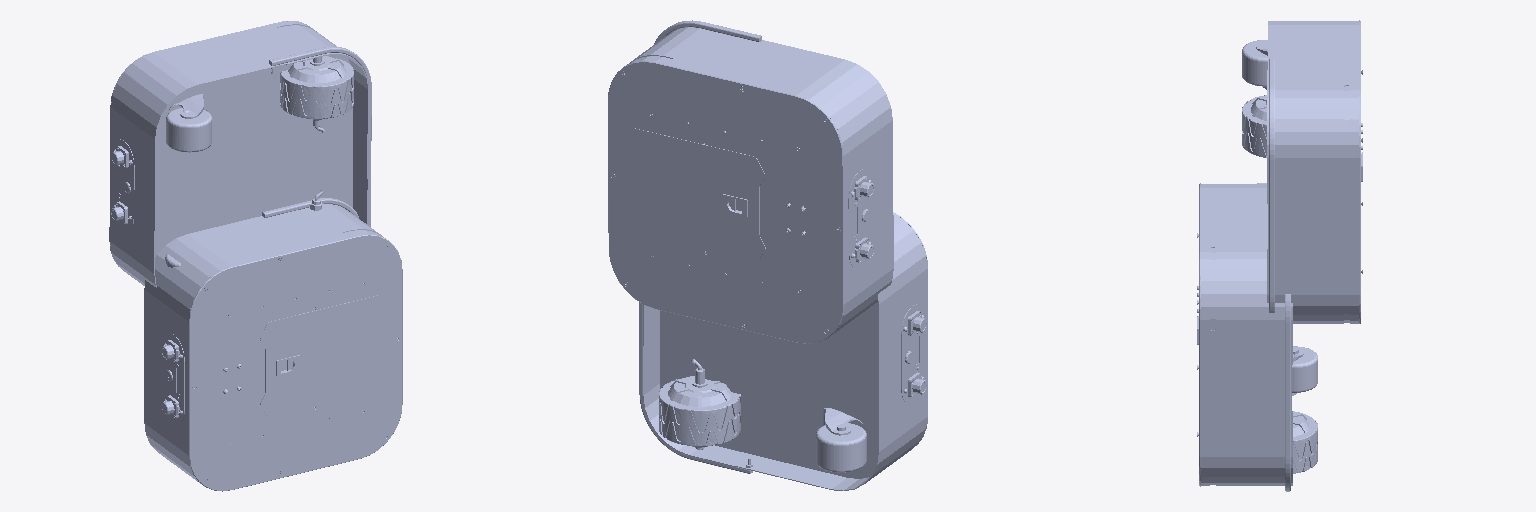
The robot description file, URDF, robot "ranger_mini":
<?xml version="1.0" encoding="utf-8"?>
<!-- This URDF was automatically created by SolidWorks to URDF Exporter! Originally created by [author] ([email redacted]) 
     Commit Version: 1.6.0-4-g7f85cfe  Build Version: 1.6.7995.38578
     For more information, please see http://wiki.ros.org/sw_urdf_exporter -->
<robot
  name="ranger_mini">
  <link
    name="base_link">
    <inertial>
      <origin
        xyz="-0.0242698272228022 -0.0030308024613212 0.0544267444673498"
        rpy="0 0 0" />
      <mass
        value="0.162715996120322" />
      <inertia
        ixx="0.000723700192916944"
        ixy="-1.55745142682799E-08"
        ixz="-3.42378773027466E-12"
        iyy="0.000744046536331603"
        iyz="2.24935144207573E-07"
        izz="2.14412578189702E-05" />
    </inertial>
    <visual>
      <origin
        xyz="0 0 0"
        rpy="0 0 0" />
      <geometry>
        <mesh
          filename="package://ranger_mini_v2/meshes/ranger_base.dae" />
      </geometry>
      <material
        name="">
        <color
          rgba="0.792156862745098 0.819607843137255 0.933333333333333 1" />
      </material>
    </visual>
    <collision>
      <origin
        xyz="0 0 0"
        rpy="0 0 0" />
      <geometry>
        <mesh
          filename="package://ranger_mini_v2/meshes/ranger_base.dae" />
      </geometry>
    </collision>
  </link>
  <link
    name="fr_Link">
    <inertial>
      <origin
        xyz="1.8493E-05 1.2713E-06 0.043679"
        rpy="0 0 0" />
      <mass
        value="2.2786" />
      <inertia
        ixx="0.0063625"
        ixy="-1.0581E-07"
        ixz="-4.0831E-07"
        iyy="0.006363"
        iyz="-3.4944E-08"
        izz="0.010465" />
    </inertial>
    <visual>
      <origin
        xyz="0 0 0"
        rpy="0 0 0" />
      <geometry>
        <mesh
          filename="package://ranger_mini_v2/meshes/fr_Link.STL" />
      </geometry>
      <material
        name="">
        <color
          rgba="0.79216 0.81961 0.93333 1" />
      </material>
    </visual>
    <collision>
      <origin
        xyz="0 0 0"
        rpy="0 0 0" />
      <geometry>
        <mesh
          filename="package://ranger_mini_v2/meshes/fr_Link.STL" />
      </geometry>
    </collision>
  </link>
  <joint
    name="rl_joint"
    type="continuous">
    <origin
      xyz="0.2195 -0.015804 0.11898"
      rpy="0 0.006858 0" />
    <parent
      link="base_link" />
    <child
      link="fr_Link" />
    <axis
      xyz="0 0 -1" />
  </joint>
  <link
    name="fl_Link">
    <inertial>
      <origin
        xyz="-0.0017956 -9.6304E-08 0.043642"
        rpy="0 0 0" />
      <mass
        value="2.2786" />
      <inertia
        ixx="0.0063695"
        ixy="-2.1067E-08"
        ixz="-0.00016867"
        iyy="0.006363"
        iyz="-1.0301E-08"
        izz="0.010458" />
    </inertial>
    <visual>
      <origin
        xyz="0 0 0"
        rpy="0 0 0" />
      <geometry>
        <mesh
          filename="package://ranger_mini_v2/meshes/fl_Link.STL" />
      </geometry>
      <material
        name="">
        <color
          rgba="0.79216 0.81961 0.93333 1" />
      </material>
    </visual>
    <collision>
      <origin
        xyz="0 0 0"
        rpy="0 0 0" />
      <geometry>
        <mesh
          filename="package://ranger_mini_v2/meshes/fl_Link.STL" />
      </geometry>
    </collision>
  </link>
  <joint
    name="fl_joint"
    type="continuous">
    <origin
      xyz="0.22145 -0.015803 -0.16276"
      rpy="3.1416 0 0" />
    <parent
      link="base_link" />
    <child
      link="fl_Link" />
    <axis
      xyz="0.041054 0 -0.99916" />
  </joint>
  <link
    name="br_Link">
    <inertial>
      <origin
        xyz="-0.00017093 6.1255E-08 0.043678"
        rpy="0 0 0" />
      <mass
        value="2.2786" />
      <inertia
        ixx="0.0063627"
        ixy="-2.1069E-08"
        ixz="-1.587E-05"
        iyy="0.006363"
        iyz="9.3201E-09"
        izz="0.010465" />
    </inertial>
    <visual>
      <origin
        xyz="0 0 0"
        rpy="0 0 0" />
      <geometry>
        <mesh
          filename="package://ranger_mini_v2/meshes/br_Link.STL" />
      </geometry>
      <material
        name="">
        <color
          rgba="0.79216 0.81961 0.93333 1" />
      </material>
    </visual>
    <collision>
      <origin
        xyz="0 0 0"
        rpy="0 0 0" />
      <geometry>
        <mesh
          filename="package://ranger_mini_v2/meshes/br_Link.STL" />
      </geometry>
    </collision>
  </link>
  <joint
    name="br_joint"
    type="continuous">
    <origin
      xyz="-0.27015 -0.015803 0.12117"
      rpy="0 0 0" />
    <parent
      link="base_link" />
    <child
      link="br_Link" />
    <axis
      xyz="0.0039668 0 -0.99999" />
  </joint>
  <link
    name="bl_Link">
    <inertial>
      <origin
        xyz="-0.0011575 -4.8644E-06 0.043663"
        rpy="0 0 0" />
      <mass
        value="2.2786" />
      <inertia
        ixx="0.0063656"
        ixy="-8.1498E-08"
        ixz="-0.00011049"
        iyy="0.006363"
        iyz="6.6847E-08"
        izz="0.010462" />
    </inertial>
    <visual>
      <origin
        xyz="0 0 0"
        rpy="0 0 0" />
      <geometry>
        <mesh
          filename="package://ranger_mini_v2/meshes/bl_Link.STL" />
      </geometry>
      <material
        name="">
        <color
          rgba="0.79216 0.81961 0.93333 1" />
      </material>
    </visual>
    <collision>
      <origin
        xyz="0 0 0"
        rpy="0 0 0" />
      <geometry>
        <mesh
          filename="package://ranger_mini_v2/meshes/bl_Link.STL" />
      </geometry>
    </collision>
  </link>
  <joint
    name="bl_joint"
    type="continuous">
    <origin
      xyz="-0.26982 -0.01581 -0.16063"
      rpy="-3.1405 -0.014946 0.086503" />
    <parent
      link="base_link" />
    <child
      link="bl_Link" />
    <axis
      xyz="0.027043 0 -0.99963" />
  </joint>
</robot>

--- What the picture shows (computed from the rendered views, not written in the file) ---
3 views of the same robot in one strip: view 1: azimuth 30°, elevation 25°; view 2: azimuth 150°, elevation 25°; view 3: azimuth 270°, elevation 25° (orthographic).
Robot: ranger_mini — 5 links, 4 joints (4 continuous); root link base_link; default pose: all joints at 0.
Visible links, largest first — view 1: fl_Link, fr_Link; view 2: fr_Link, fl_Link; view 3: fr_Link, fl_Link.
Link boxes in pixels (left/top/right/bottom): fl_Link: left=144, top=198, right=402, bottom=491; fr_Link: left=109, top=21, right=371, bottom=287; fr_Link: left=608, top=20, right=893, bottom=343; fl_Link: left=639, top=212, right=927, bottom=490; fr_Link: left=1242, top=20, right=1362, bottom=323; fl_Link: left=1197, top=183, right=1317, bottom=491.
Bounding box of the posed robot: 0.4306 × 0.2632 × 0.6984 m (x, y, z).
Meshes: 5 distinct files referenced, 2 mesh visuals loaded (2 binary STL); not drawn: 2 (reference not matched to a file when rendering), 1 (file found but could not be loaded).